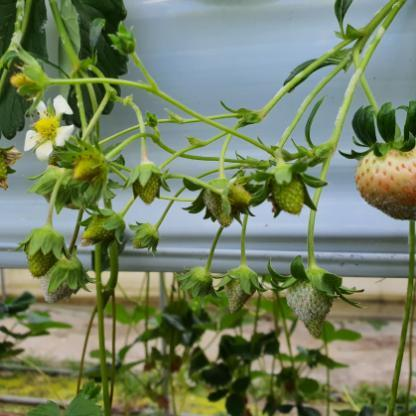Strawberry_Powdery_Mildew_Fruit: (284, 274, 336, 338), (42, 261, 84, 305), (223, 270, 259, 314)
